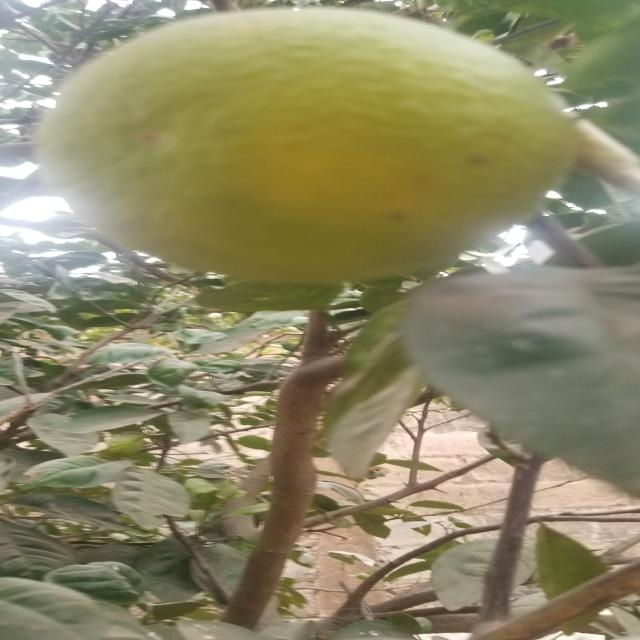Unripe: (29, 2, 588, 294)
